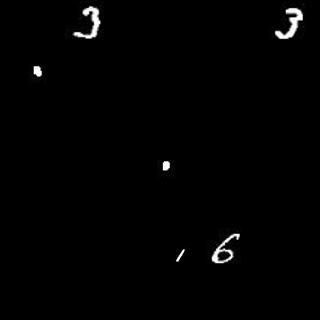dot: (156, 155, 173, 174), (30, 63, 44, 79)
one: (176, 246, 186, 263)
six: (211, 230, 243, 262)
three: (269, 5, 304, 46), (75, 5, 102, 39)
